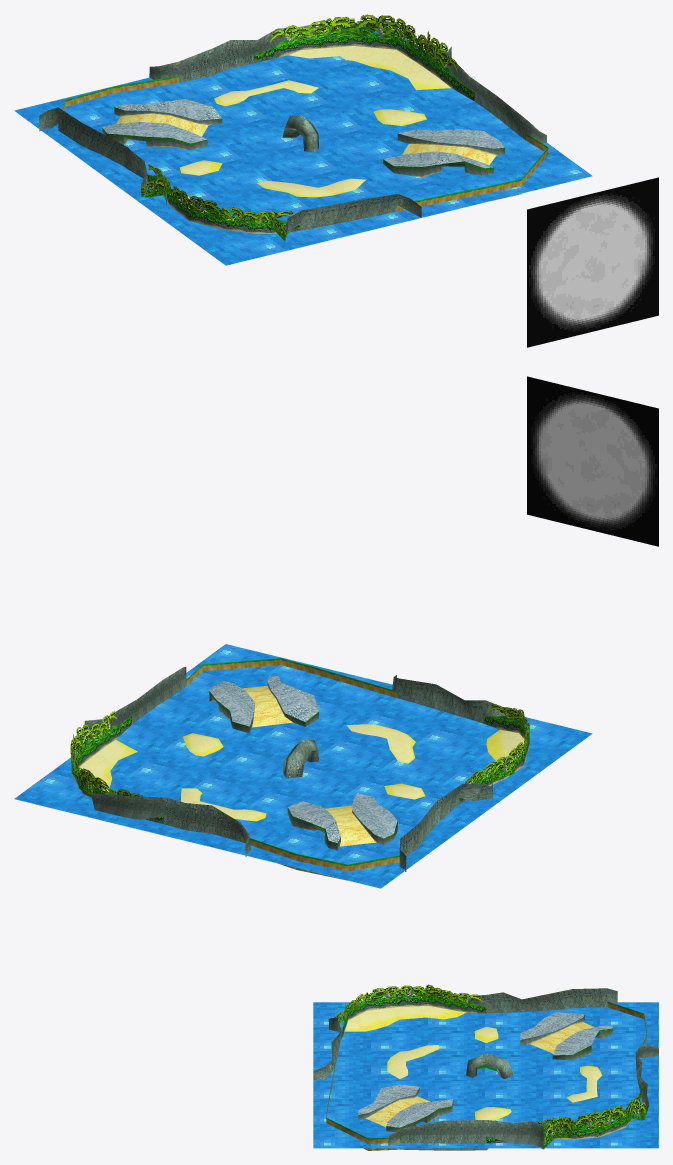
File: map.dae
The picture shows the model from 3 angles, top to bottom: view 1: azimuth 30°, elevation 25°; view 2: azimuth 150°, elevation 25°; view 3: azimuth 270°, elevation 25°; orthographic projection. The views are drawn at different scales.
Parts seen in each view (by area): view 1: Nemu_531DF370_0_99, Nemu_5AD03A2E_0_31, Nemu_8CB89E9_0_88, Nemu_57C8E354_0_32, Nemu_D677D90_0_34, Nemu_BB9DC6E_0_80, Nemu_1995198C_0_125, Nemu_18796EEE_0_109, Nemu_7B34C50_0_94, Nemu_7B34C50_0_98, Nemu_39183E58_0_60, Nemu_8CB89E9_0_84 (+14 smaller); view 2: Nemu_531DF370_0_99, Nemu_5AD03A2E_0_31, Nemu_8CB89E9_0_88, Nemu_57C8E354_0_32, Nemu_D677D90_0_34, Nemu_1995198C_0_125, Nemu_BB9DC6E_0_80, Nemu_18796EEE_0_109, Nemu_8CB89E9_0_90, Nemu_7B34C50_0_80, Nemu_8CB89E9_0_95, Nemu_7B34C50_0_98 (+14 smaller); view 3: Nemu_5AD03A2E_0_31, Nemu_8CB89E9_0_88, Nemu_57C8E354_0_32, Nemu_D677D90_0_34, Nemu_1995198C_0_125, Nemu_5721B3CB_0_85, Nemu_BB9DC6E_0_80, Nemu_7B34C50_0_80, Nemu_7B34C50_0_76, Nemu_7B34C50_0_98, Nemu_7B34C50_0_94, Nemu_8CB89E9_0_95 (+13 smaller).
Part boxes in pixels (left/top/right/bottom): Nemu_531DF370_0_99: left=527, top=177, right=658, bottom=347; Nemu_5AD03A2E_0_31: left=39, top=24, right=546, bottom=238; Nemu_8CB89E9_0_88: left=265, top=166, right=500, bottom=243; Nemu_57C8E354_0_32: left=168, top=46, right=450, bottom=222; Nemu_D677D90_0_34: left=102, top=99, right=504, bottom=168; Nemu_BB9DC6E_0_80: left=218, top=143, right=350, bottom=204; Nemu_1995198C_0_125: left=251, top=82, right=382, bottom=142; Nemu_18796EEE_0_109: left=191, top=104, right=302, bottom=162; Nemu_7B34C50_0_94: left=458, top=141, right=592, bottom=198; Nemu_7B34C50_0_98: left=316, top=124, right=408, bottom=179; Nemu_39183E58_0_60: left=147, top=37, right=474, bottom=233; Nemu_8CB89E9_0_84: left=173, top=204, right=316, bottom=265; Nemu_531DF370_0_99: left=527, top=376, right=658, bottom=546; Nemu_5AD03A2E_0_31: left=84, top=667, right=511, bottom=871; Nemu_8CB89E9_0_88: left=290, top=666, right=483, bottom=749; Nemu_57C8E354_0_32: left=75, top=724, right=526, bottom=821; Nemu_D677D90_0_34: left=209, top=675, right=397, bottom=843; Nemu_1995198C_0_125: left=159, top=747, right=286, bottom=804; Nemu_BB9DC6E_0_80: left=304, top=731, right=447, bottom=785; Nemu_18796EEE_0_109: left=251, top=766, right=387, bottom=813; Nemu_8CB89E9_0_90: left=402, top=750, right=539, bottom=810; Nemu_7B34C50_0_80: left=198, top=805, right=324, bottom=865; Nemu_8CB89E9_0_95: left=289, top=840, right=433, bottom=888; Nemu_7B34C50_0_98: left=219, top=718, right=350, bottom=765; Nemu_5AD03A2E_0_31: left=313, top=988, right=658, bottom=1150; Nemu_8CB89E9_0_88: left=313, top=1038, right=399, bottom=1111; Nemu_57C8E354_0_32: left=345, top=1006, right=627, bottom=1149; Nemu_D677D90_0_34: left=358, top=1012, right=612, bottom=1127; Nemu_1995198C_0_125: left=486, top=1075, right=572, bottom=1111; Nemu_5721B3CB_0_85: left=345, top=984, right=648, bottom=1149; Nemu_BB9DC6E_0_80: left=400, top=1038, right=486, bottom=1075; Nemu_7B34C50_0_80: left=572, top=1038, right=658, bottom=1075; Nemu_7B34C50_0_76: left=572, top=1075, right=658, bottom=1111; Nemu_7B34C50_0_98: left=400, top=1075, right=486, bottom=1111; Nemu_7B34C50_0_94: left=313, top=1112, right=399, bottom=1148; Nemu_8CB89E9_0_95: left=572, top=1002, right=658, bottom=1038.
Bounding box in the file's own units: 7680 × 3424 × 14336.
Materials: 14 (14 with a texture image).
